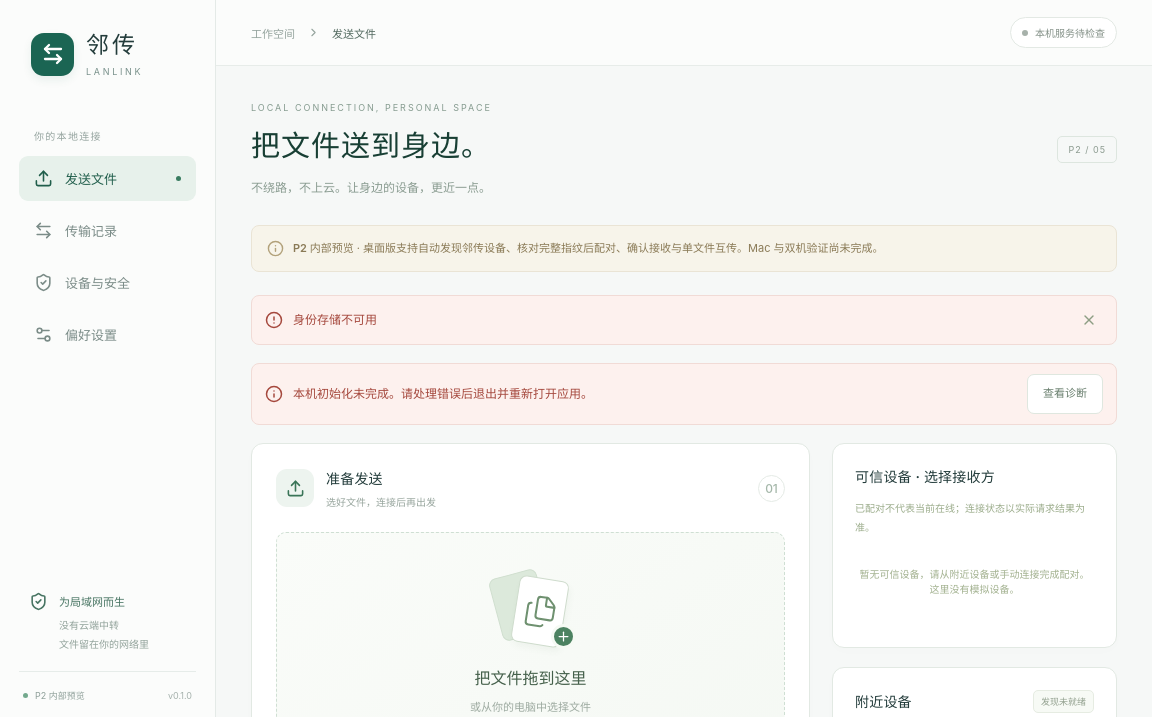
desktop IPC integration › explains restart after initialization failure and still allows diagnostics
Expected: the message reads "身份存储不可用", x1=293 y1=312 x2=377 y2=327
Expected: the text "本机初始化未完成。请处理错误后退出并重新打开应用。" is shown, x1=293 y1=386 x2=593 y2=401
Click the button "查看诊断".
click(1065, 394)  # box x1=1027 y1=374 x2=1103 y2=414
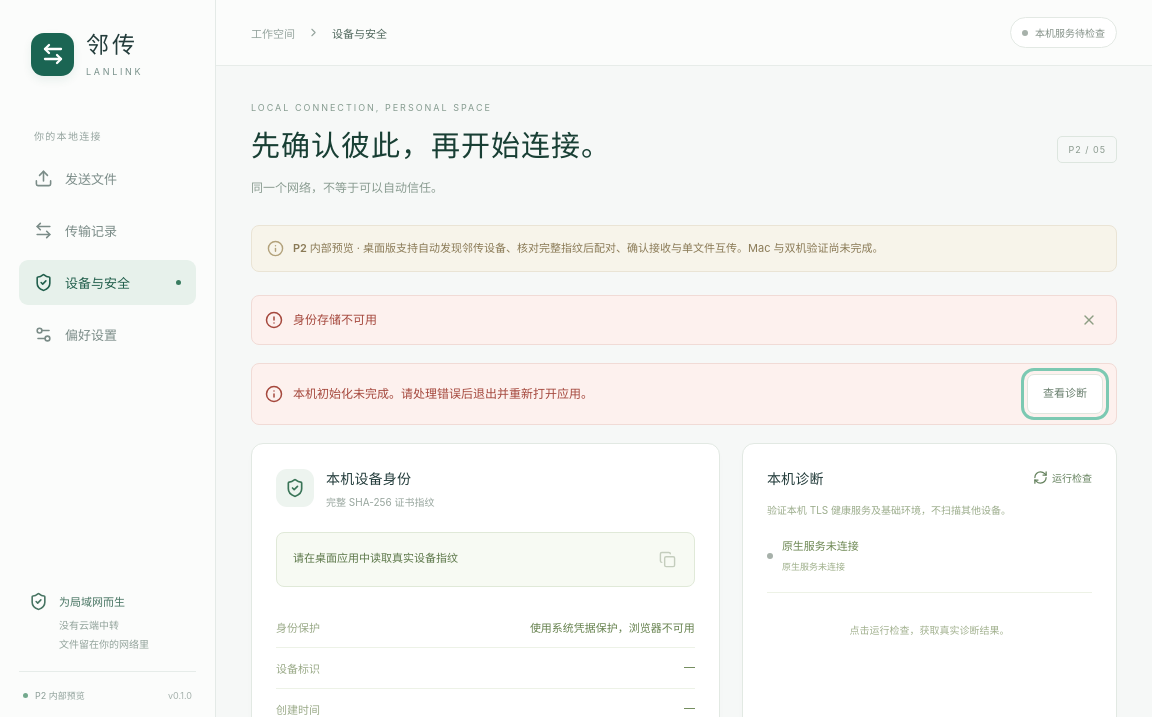
Click the button "运行检查".
click(1062, 478)  # box x1=1033 y1=470 x2=1092 y2=485
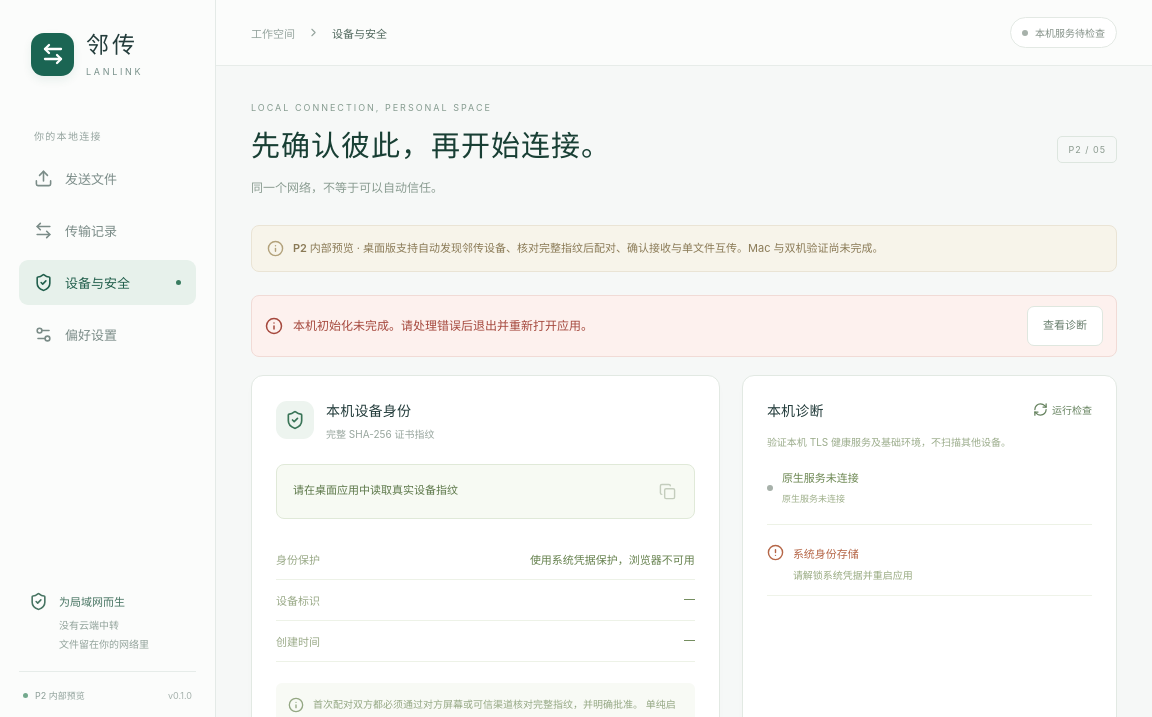
Expected: the text "请解锁系统凭据并重启应用" is shown, x1=793 y1=566 x2=913 y2=584
